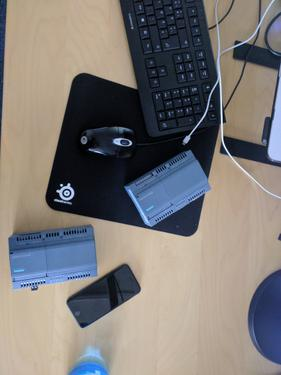device: (124, 150, 212, 227), (9, 225, 98, 292)
